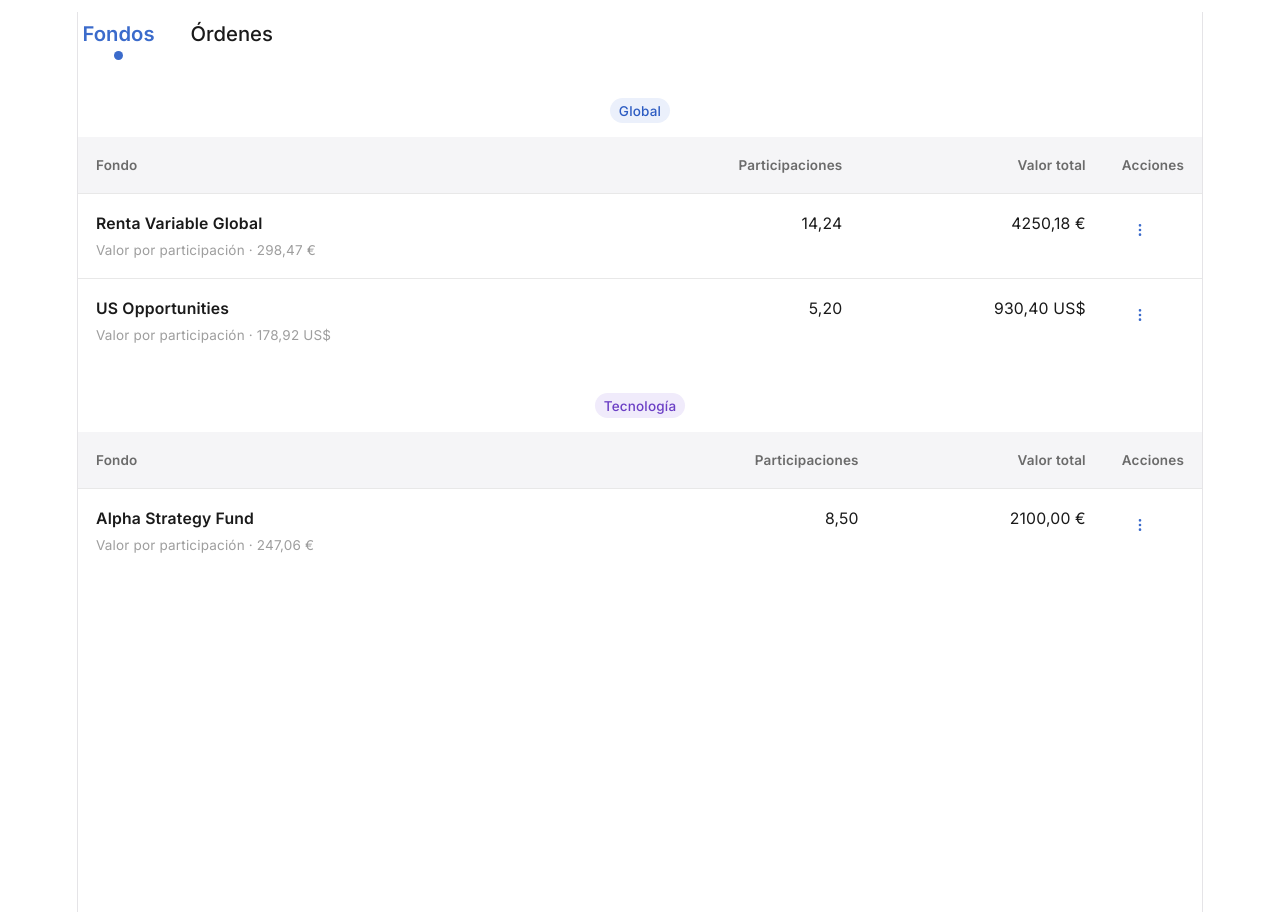
Test case: PortfolioView › switches to órdenes tab when selected
Expected: the tab "Fondos" is shown, [78,12,159,68]
Click the tab "Órdenes" at (232, 40), box [186,12,278,68]
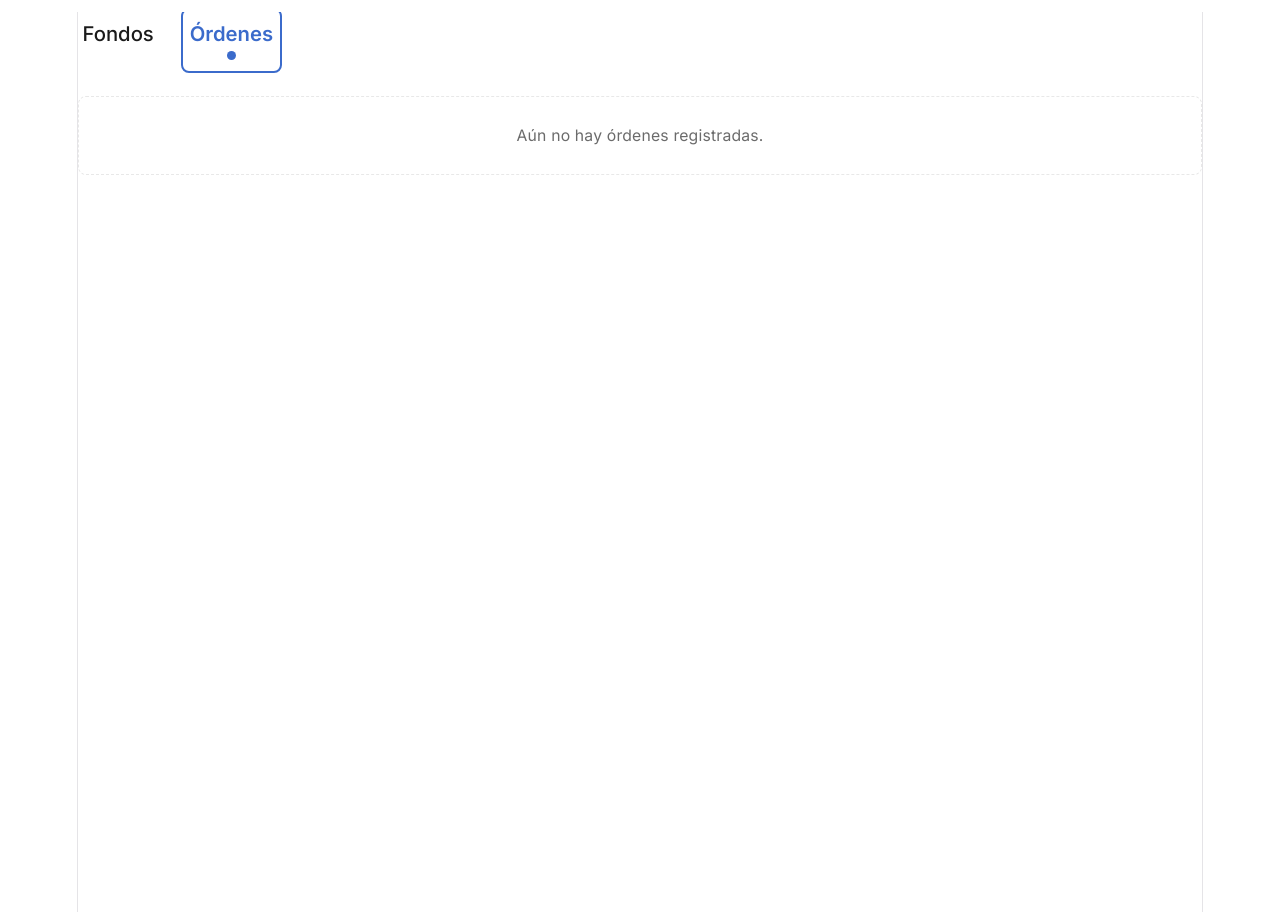
Expected: the panel "órdenes" is shown, [78,96,1202,175]
